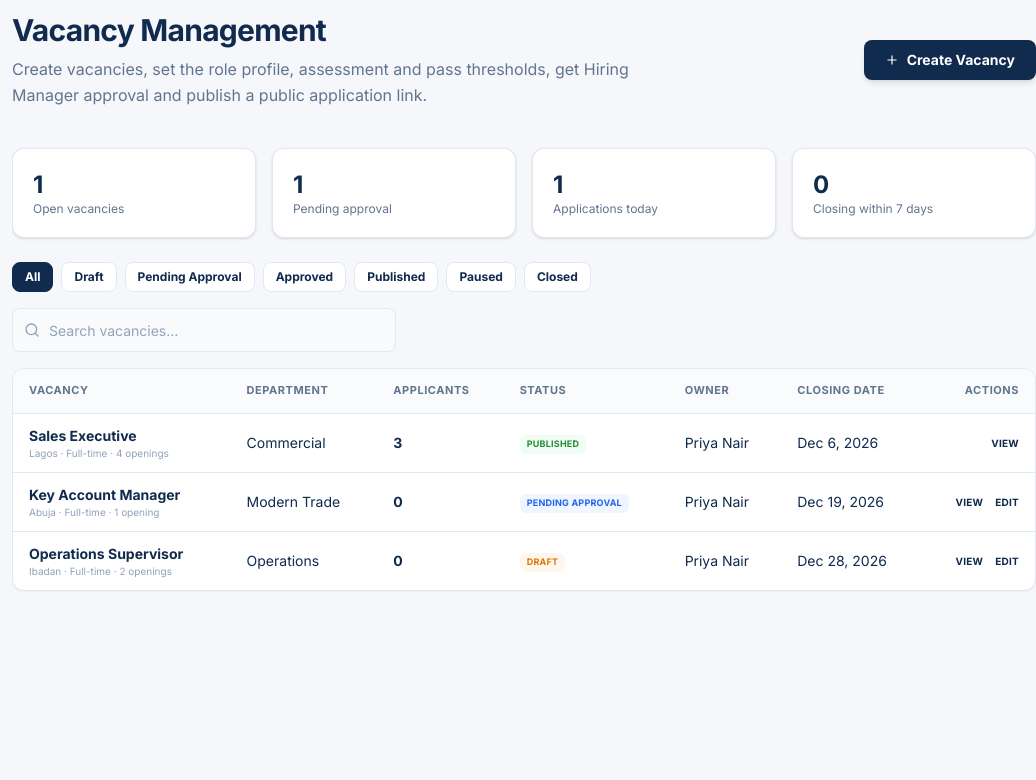
Test: Vacancy Management screens › lists vacancies with counts and status tabs
The width and height of the screenshot is (1036, 780).
expect the text "Sales Executive" is shown: met, box 29,426 -> 137,444
Click the tab "Pending Approval". click: (190, 277)
box: 124,262 -> 255,292
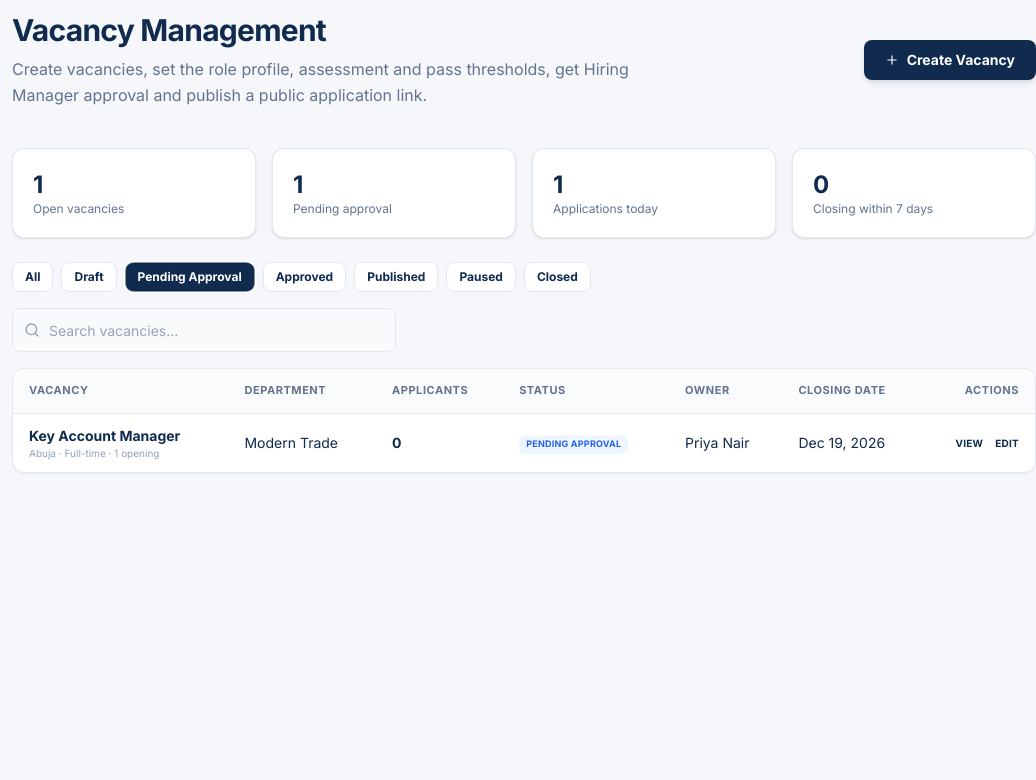
expect the text "Key Account Manager" is shown: met, box 29,426 -> 180,444
expect the text "Sales Executive" is gone: met
